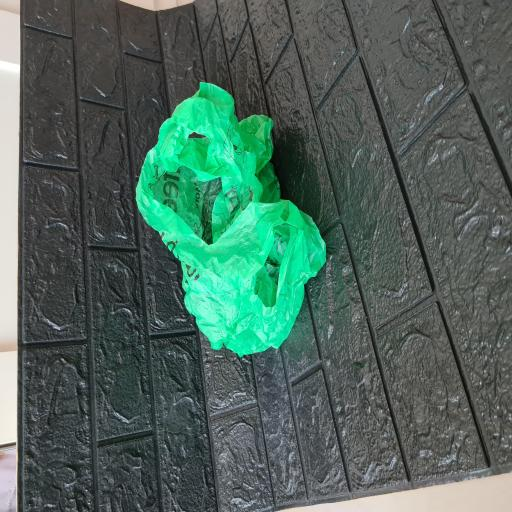plastic bag: (135, 79, 329, 359)
